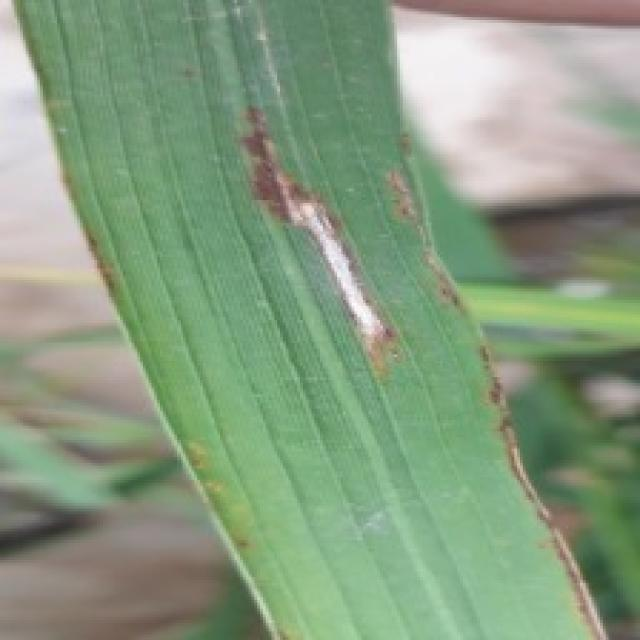Rice___Rice_Blast: (6, 0, 617, 637)
